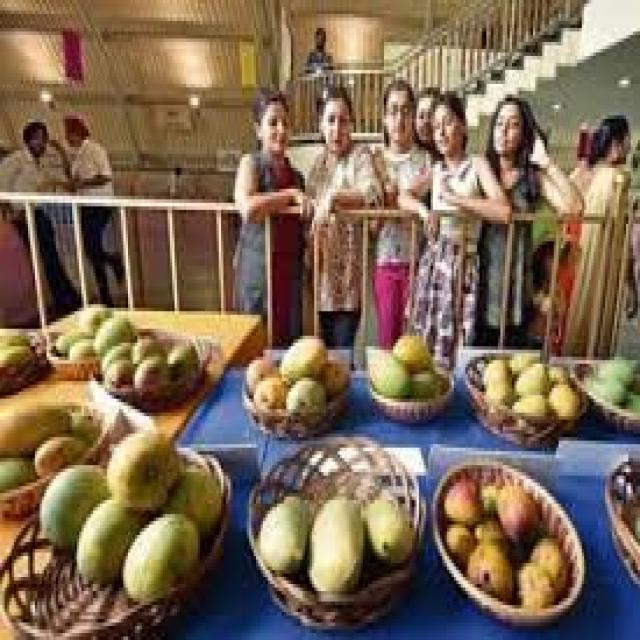organic waste: (119, 507, 200, 598), (105, 426, 182, 511), (35, 462, 109, 546), (74, 490, 144, 577), (305, 493, 365, 591), (256, 486, 310, 577), (163, 462, 219, 528), (363, 490, 414, 560), (0, 402, 65, 455), (493, 479, 538, 542), (463, 538, 512, 594), (363, 342, 410, 392), (277, 332, 326, 378), (30, 434, 86, 472), (442, 476, 480, 521), (533, 535, 565, 588), (514, 560, 554, 602), (391, 328, 428, 371), (91, 311, 130, 350), (244, 353, 277, 395), (582, 371, 626, 402), (282, 371, 324, 402), (252, 371, 286, 409), (130, 329, 168, 360), (442, 521, 475, 556), (472, 510, 503, 546), (165, 339, 196, 374), (66, 406, 102, 434), (132, 353, 168, 381), (319, 356, 347, 392), (514, 360, 545, 392), (410, 364, 442, 395), (612, 462, 638, 500), (100, 339, 130, 371), (0, 458, 33, 486), (102, 353, 135, 381), (54, 322, 88, 349), (544, 378, 572, 409), (594, 357, 628, 381), (479, 357, 510, 381), (0, 339, 28, 360), (82, 308, 110, 329), (510, 392, 544, 409), (484, 378, 512, 398), (616, 385, 638, 409), (0, 325, 28, 343), (507, 350, 533, 367), (67, 332, 91, 350), (544, 360, 566, 378), (477, 483, 493, 507)
